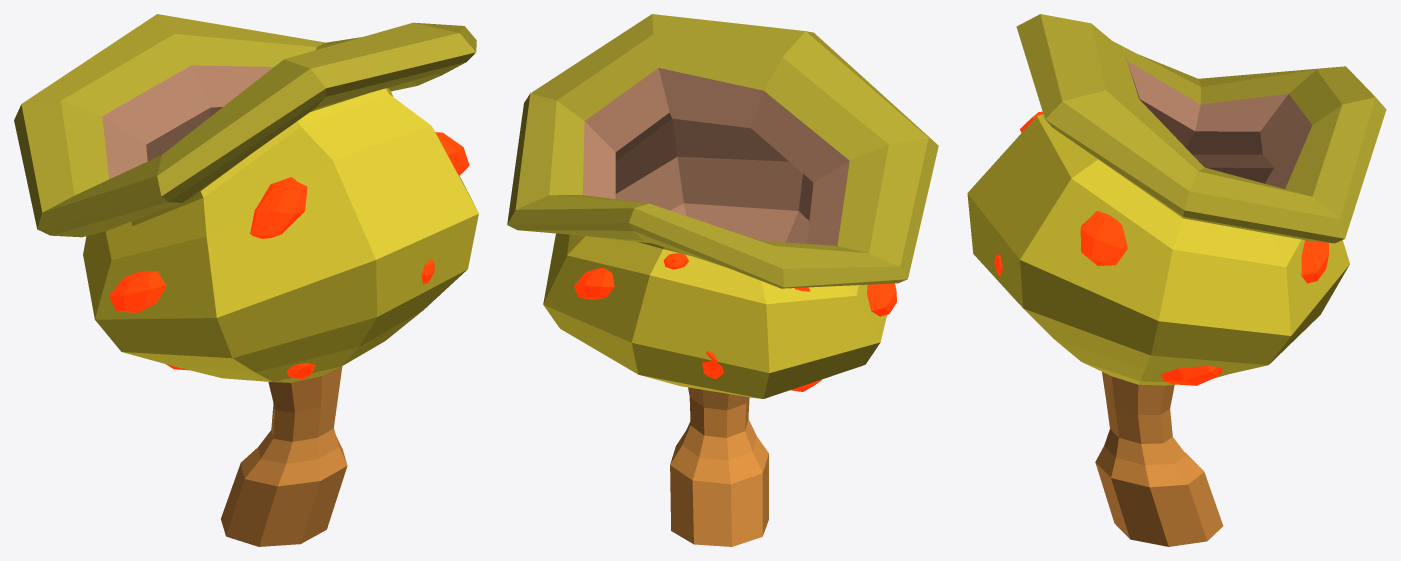
File: Mushroom_02_Var_03.fbx
The picture shows the model from 3 angles, left to right: view 1: azimuth 30°, elevation 25°; view 2: azimuth 150°, elevation 25°; view 3: azimuth 270°, elevation 25°; orthographic projection. The views are drawn at different scales.
Visible parts, largest first — view 1: Mushroom_02_Var_03; view 2: Mushroom_02_Var_03; view 3: Mushroom_02_Var_03.
Part boxes in pixels (<box>): Mushroom_02_Var_03: <box>14,14,478,546</box>; Mushroom_02_Var_03: <box>507,14,938,546</box>; Mushroom_02_Var_03: <box>967,14,1386,546</box>.
Bounding box in the file's own units: 0.8804 × 1.15 × 1.02.
